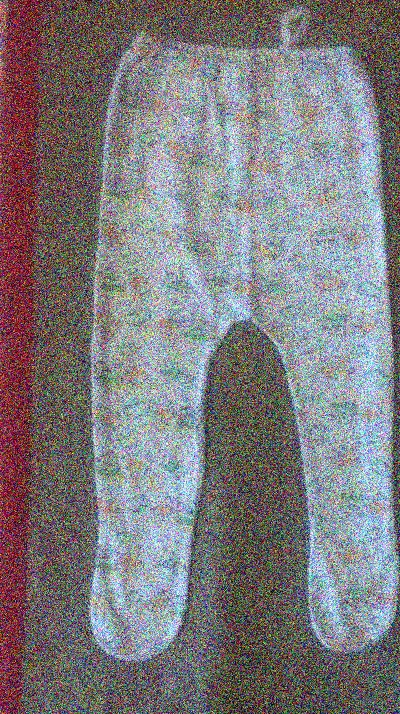Pants: (77, 37, 394, 655)
